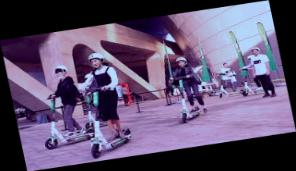helmet: (69, 48, 136, 158), (30, 62, 101, 150), (163, 52, 211, 124)
